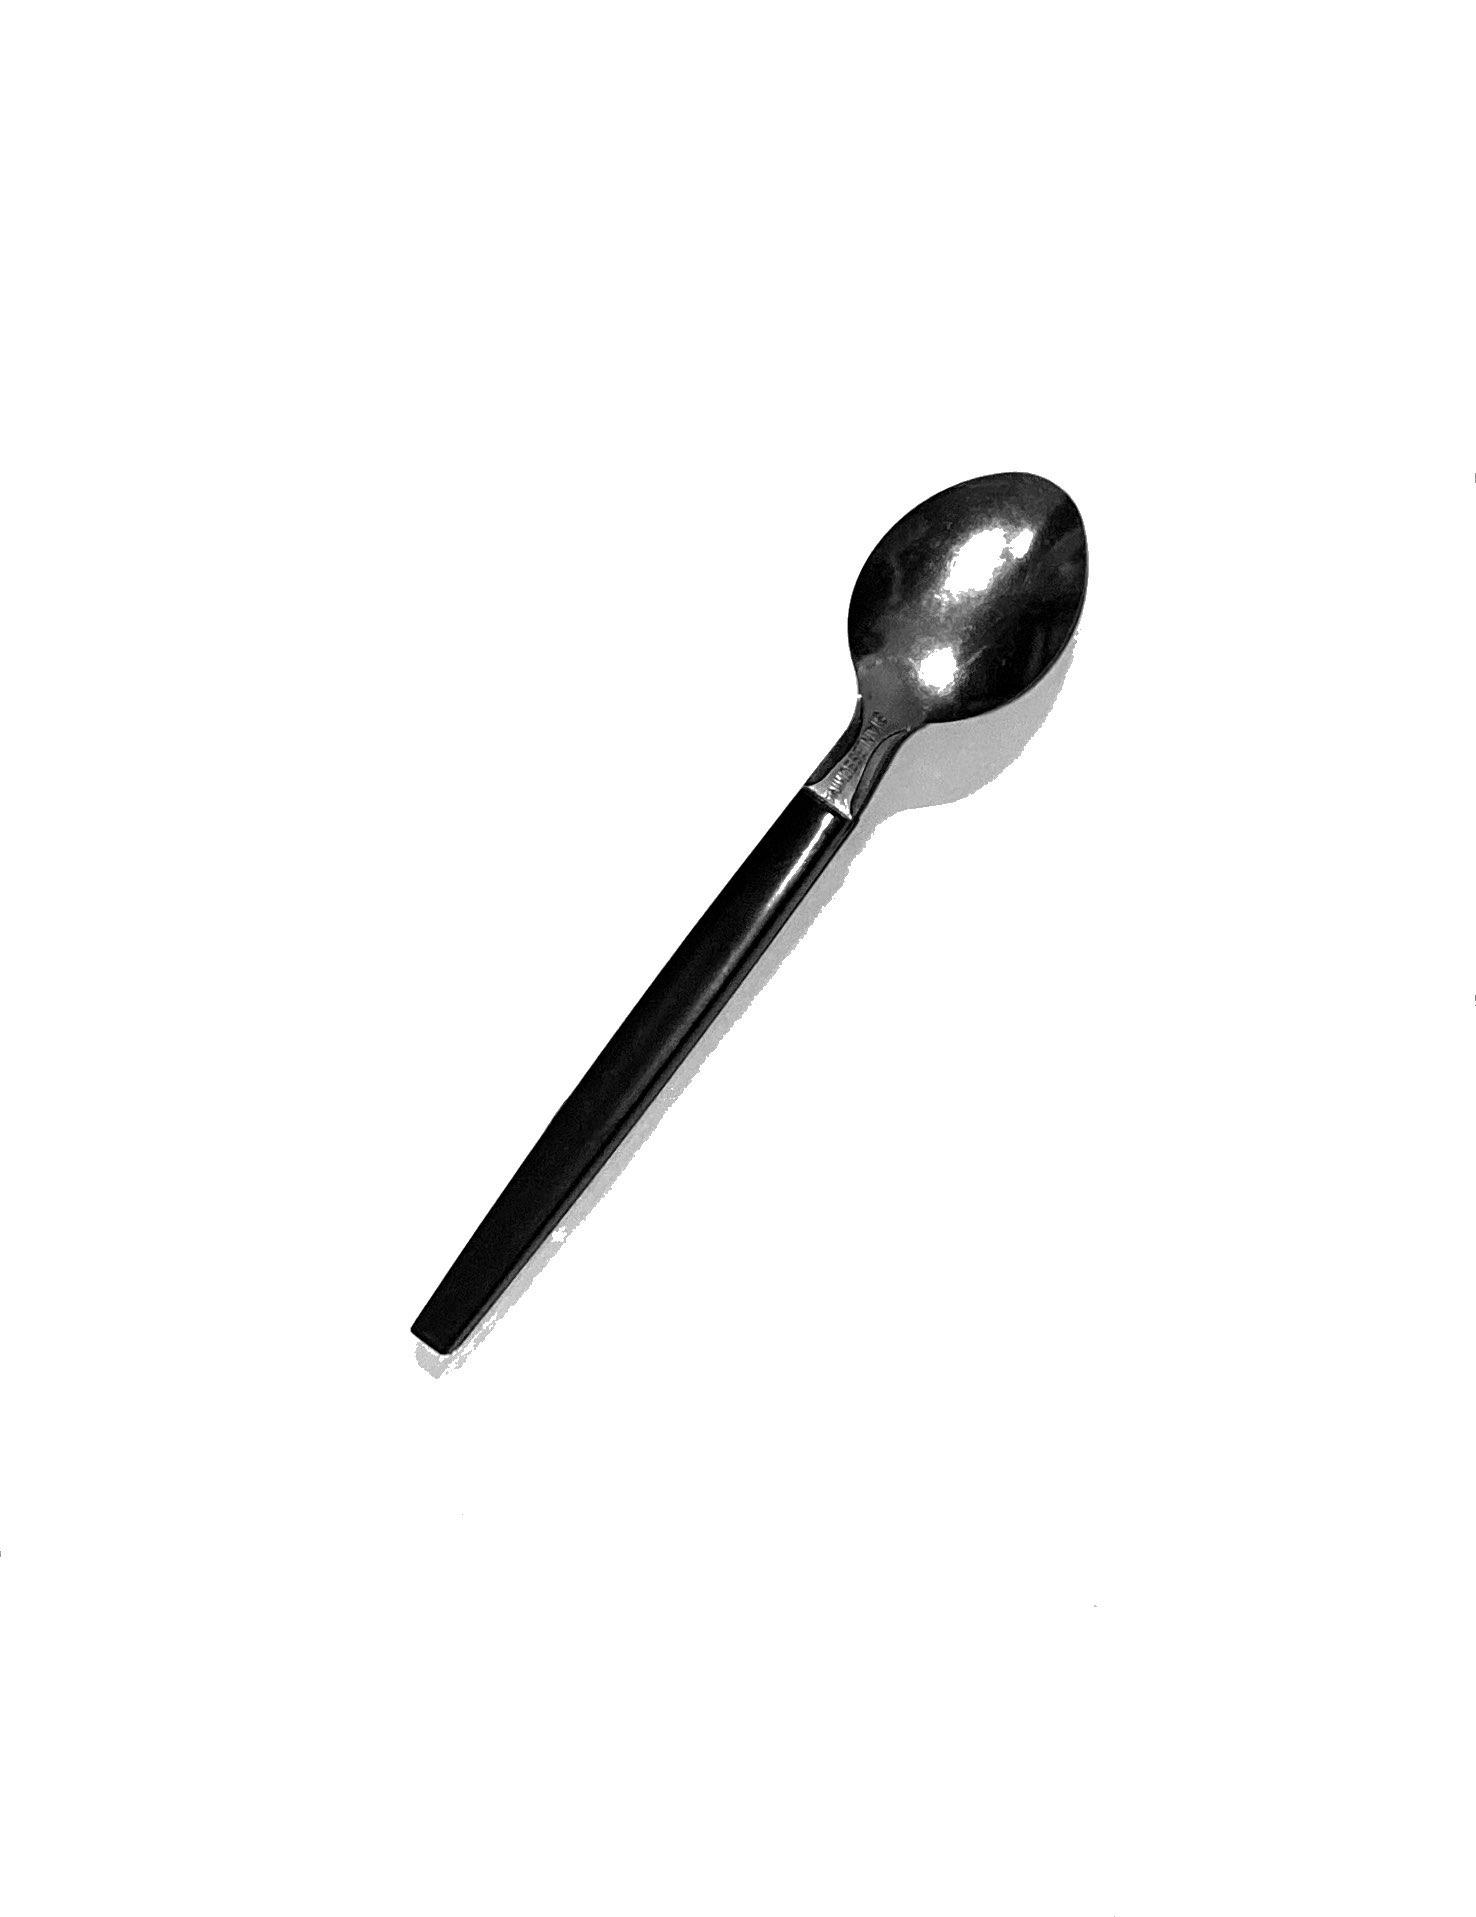Spoon: (302, 409, 1343, 1368)
